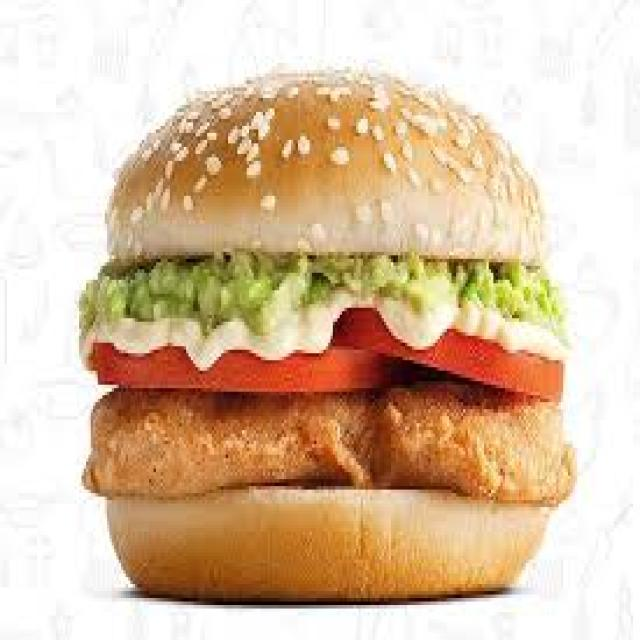햄버거: (79, 66, 577, 609)
